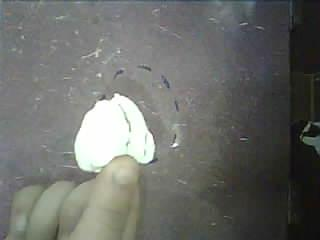paper: (74, 93, 155, 176)
